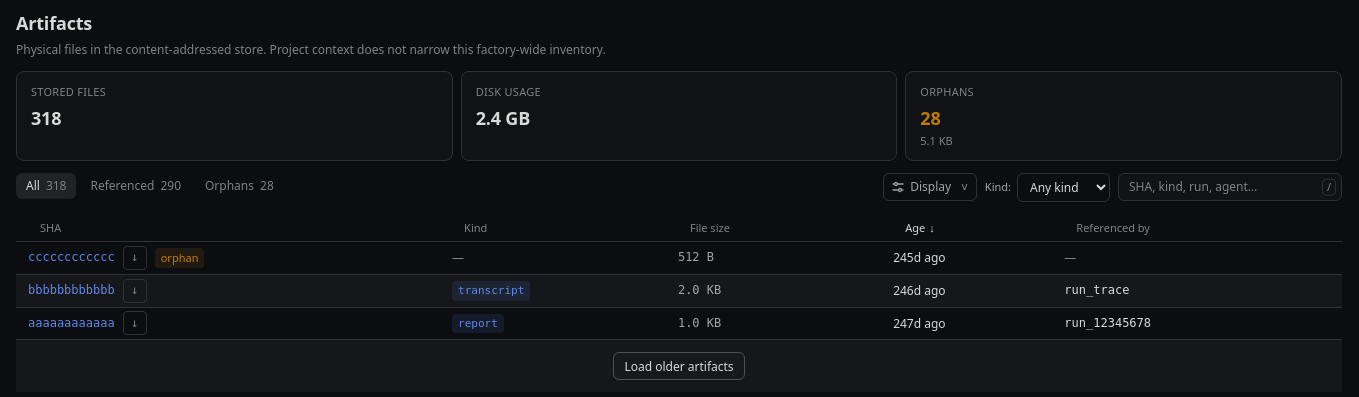
Test: Artifacts inventory (WM-207) › appends an older artifact page and resets to the first page for a new filter
The width and height of the screenshot is (1359, 397).
Expected: the link "aaaaaaaaaaaa" is shown, [28,315,115,332]
Click the button "Load older artifacts" at (679, 366), box [613,352,745,380]
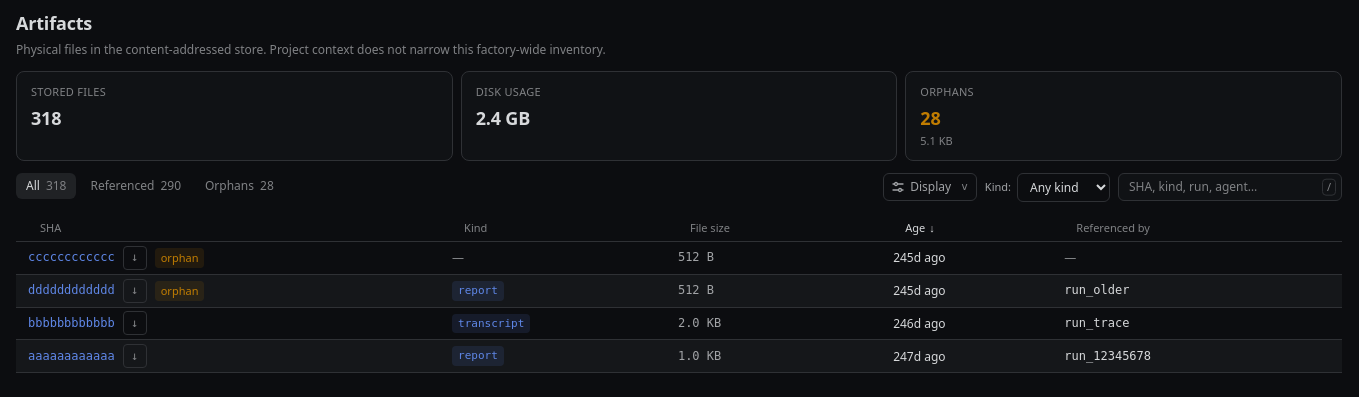
Now the link "dddddddddddd" is shown, box [28,282,115,299]
Select "report" in the dropdown named "Artifact kind" at (1064, 188), box [1017,173,1110,202]
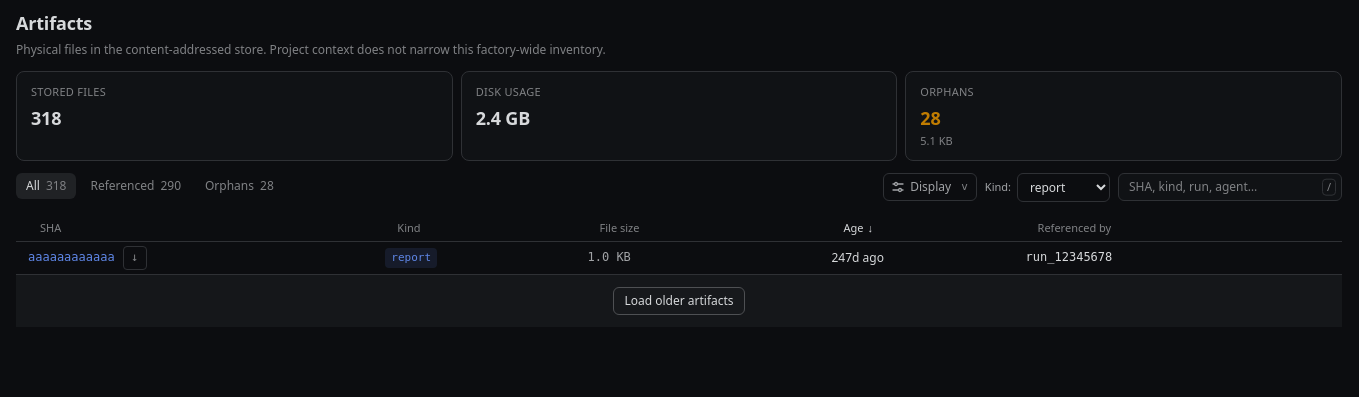
Now the link "dddddddddddd" is gone
